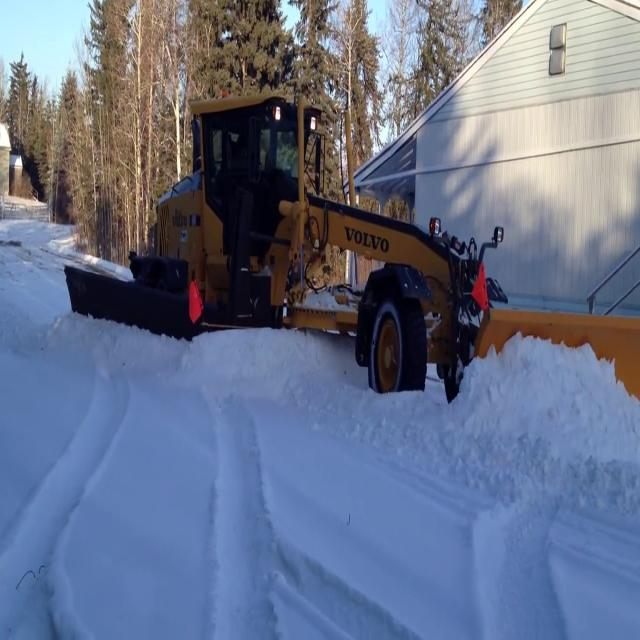buldozerpayloadergrader: (65, 88, 518, 405)
